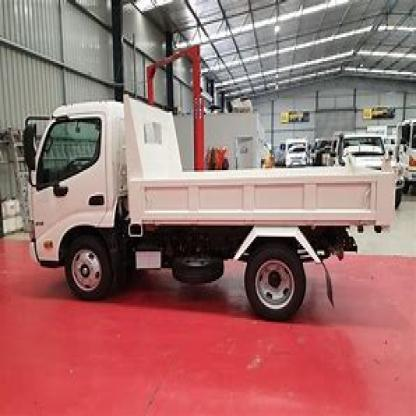dump_truck: (22, 89, 402, 348)
